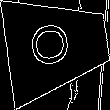O_E: (32, 21, 82, 71)
